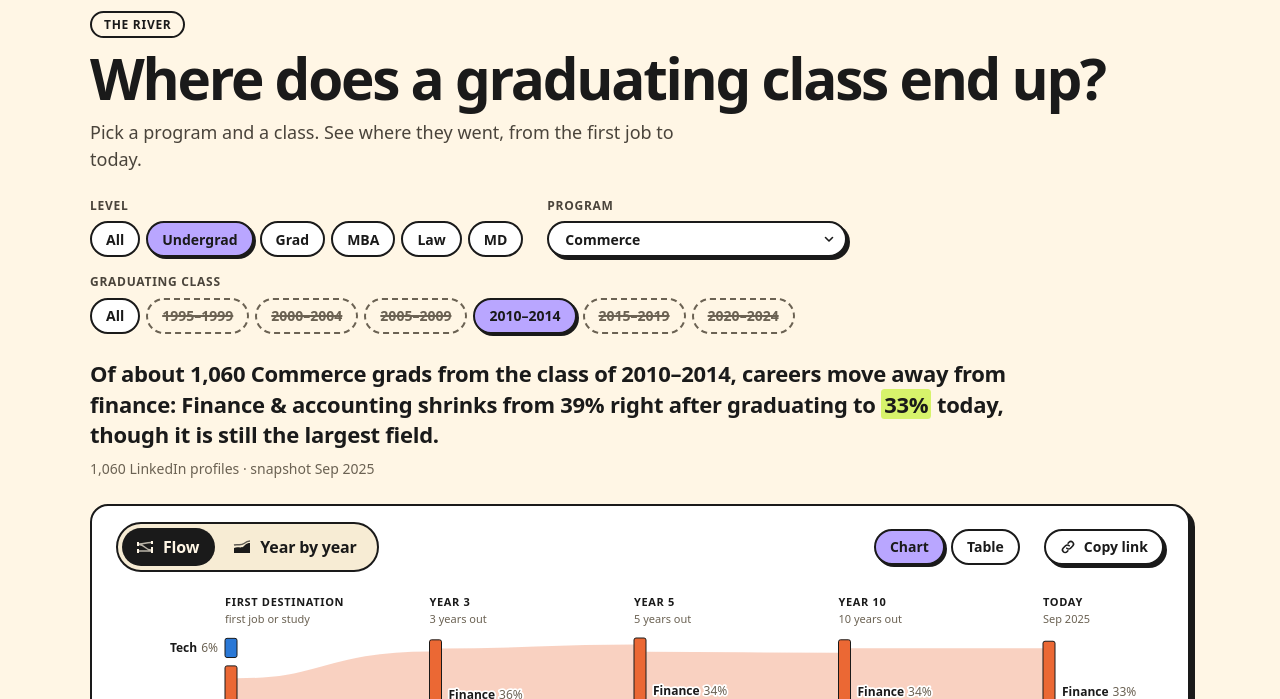
it: RiverView › toggles the flow tab to an accessible table view and back
This screenshot has width=1280, height=699.
What coordinates should you click on to do the following:
click the radio button labelled "Table"
I would click on:
 (985, 547)
Its box is [951,529,1020,565].
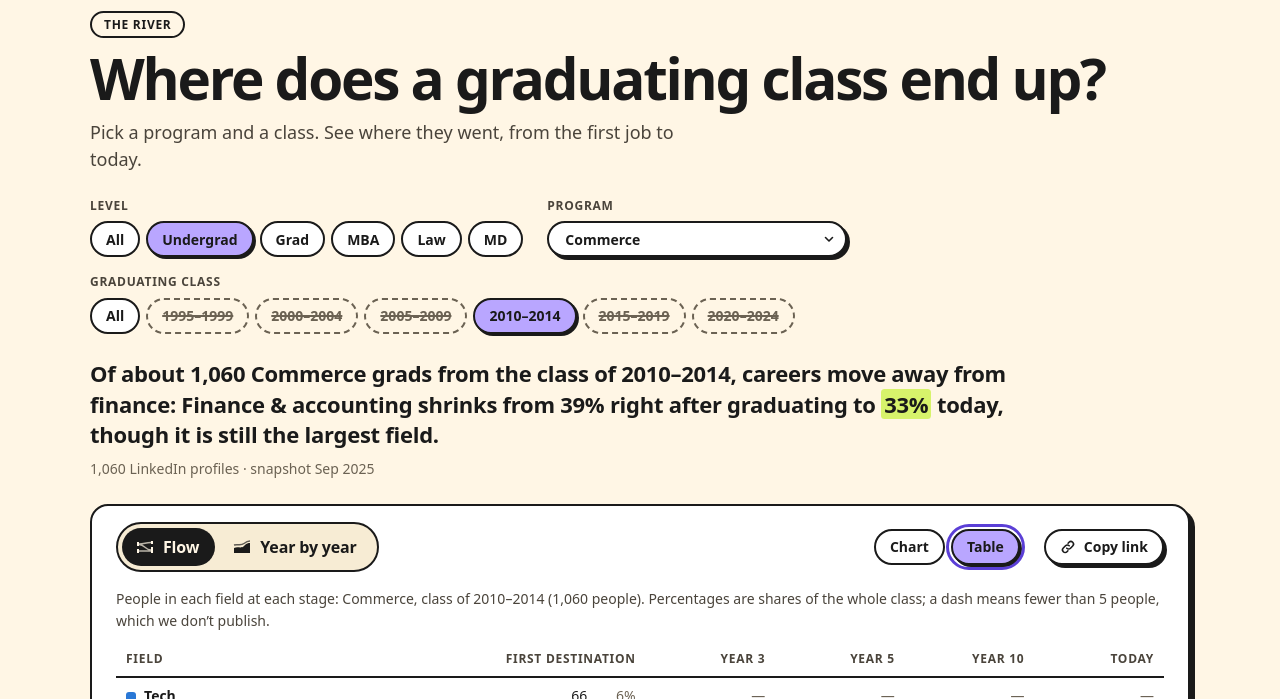
Expected: the radio button labelled "Table" is checked, [951,529,1020,565]
Expected: the column headings read "Field", "First destination", "Year 3", "Year 5", "Year 10", "Today", in this order, [116,643,436,677]; [436,643,646,677]; [646,643,775,677]; [775,643,905,677]; [905,643,1034,677]; [1034,643,1164,677]
Expected: the text "a dash means fewer than 5 people" is shown, [116,588,1164,643]
What coordinates should you click on to do the following:
click the radio button labelled "Chart"
I would click on:
 (909, 547)
Its box is [874,529,945,565].
(page scrolled)
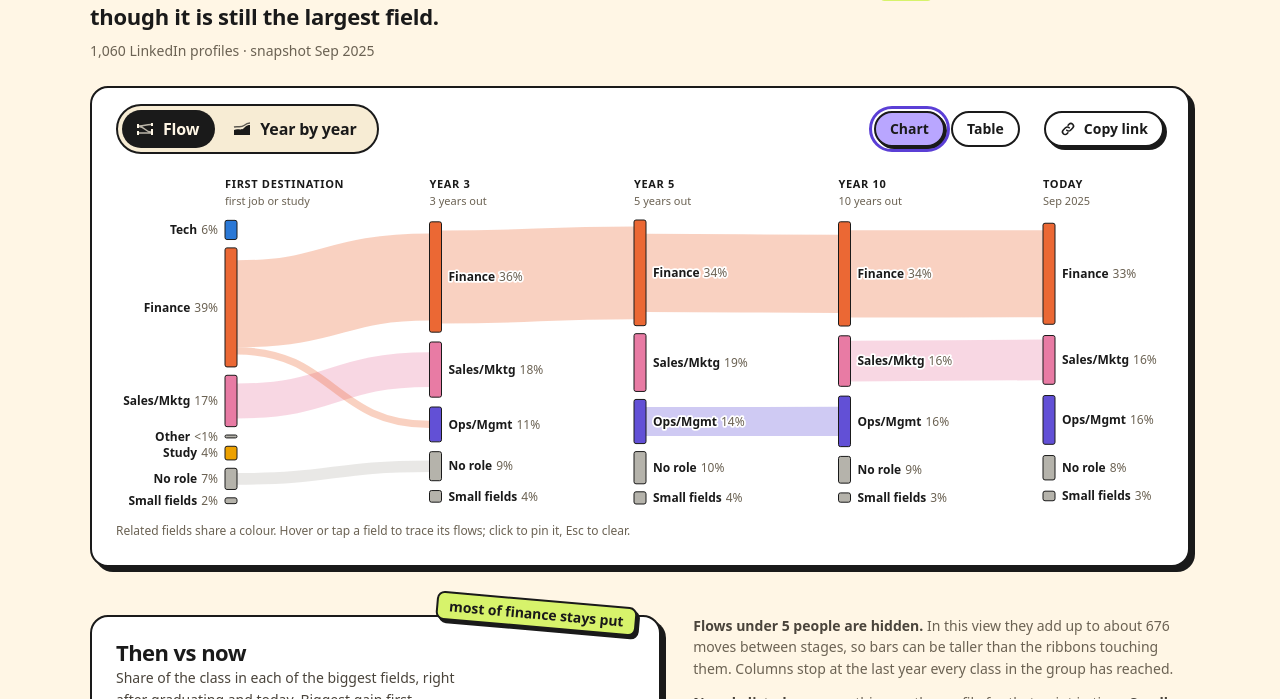
Expected: the icon with class "river-svg" is shown, [116,170,1164,510]
